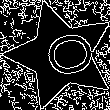O_W: (28, 27, 93, 83)
